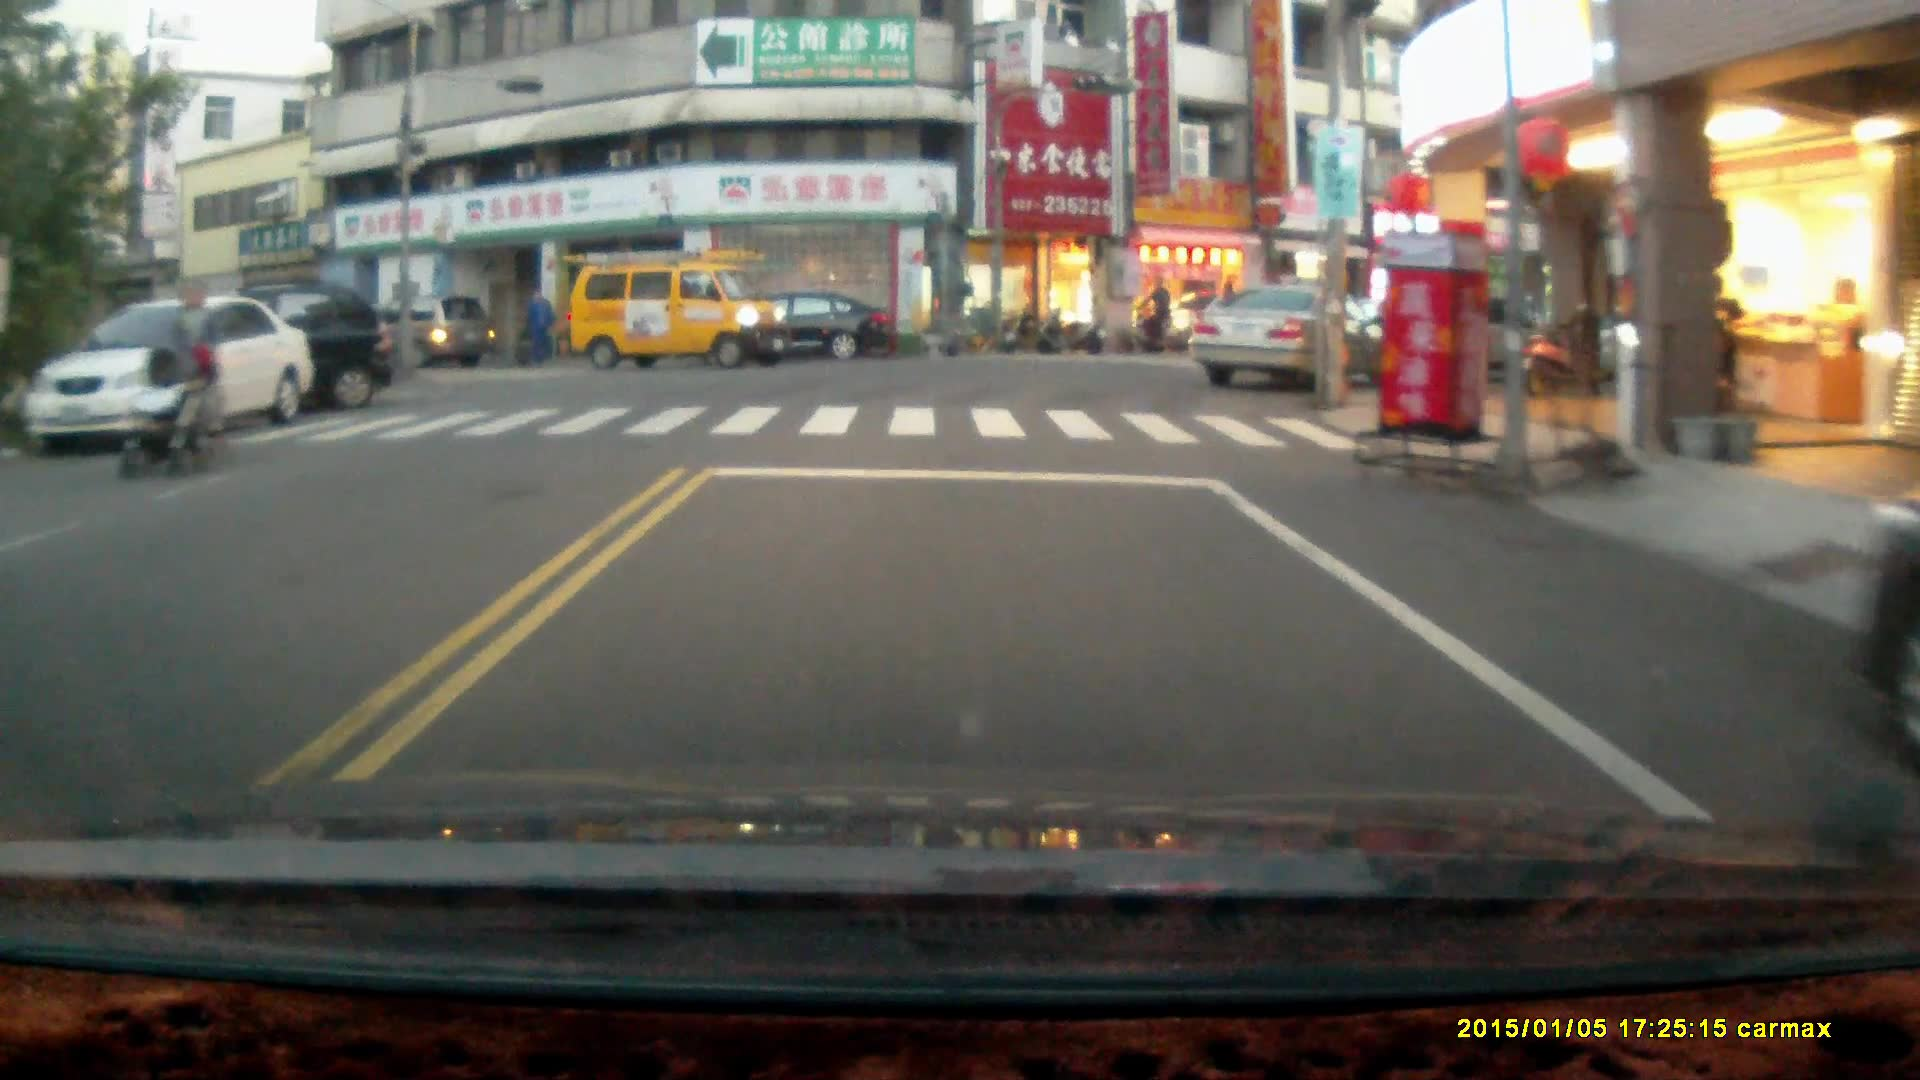pedestrian: (166, 276, 218, 447), (1707, 270, 1742, 424), (526, 285, 554, 363)
rider: (115, 334, 219, 480), (1121, 273, 1182, 357)
vehicle: (36, 294, 305, 450), (111, 276, 396, 411), (572, 245, 793, 369), (1192, 282, 1385, 395), (717, 293, 890, 368), (362, 292, 496, 371)
